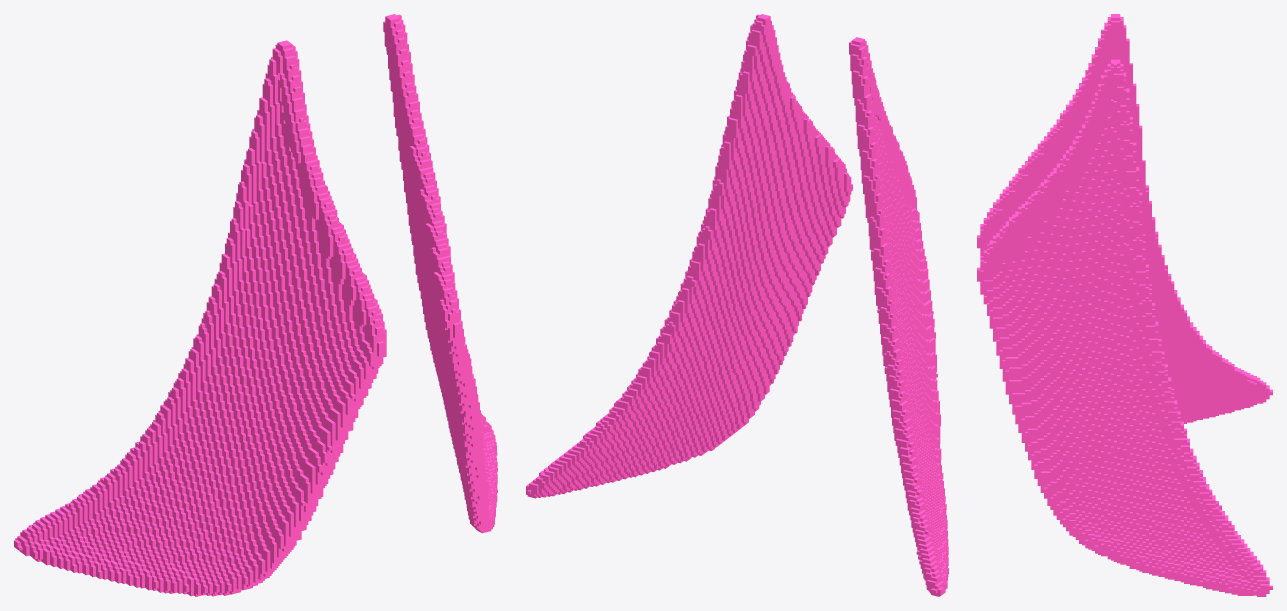
Rendered from majenta.gltf.
3 renders of one model, left to right at view 1: azimuth 30°, elevation 25°; view 2: azimuth 150°, elevation 25°; view 3: azimuth 270°, elevation 25°, orthographic. The views are drawn at different scales.
Parts seen in each view (by area): view 1: 翅膀.1; view 2: 翅膀.1; view 3: 翅膀.1.
Boxes of the visible parts, x1,y1,x2,y2 form: 翅膀.1: (14, 14, 497, 596); 翅膀.1: (526, 14, 948, 596); 翅膀.1: (977, 14, 1272, 596).
Size of the model in its own units: 17.88 by 19.2 by 11.16.
